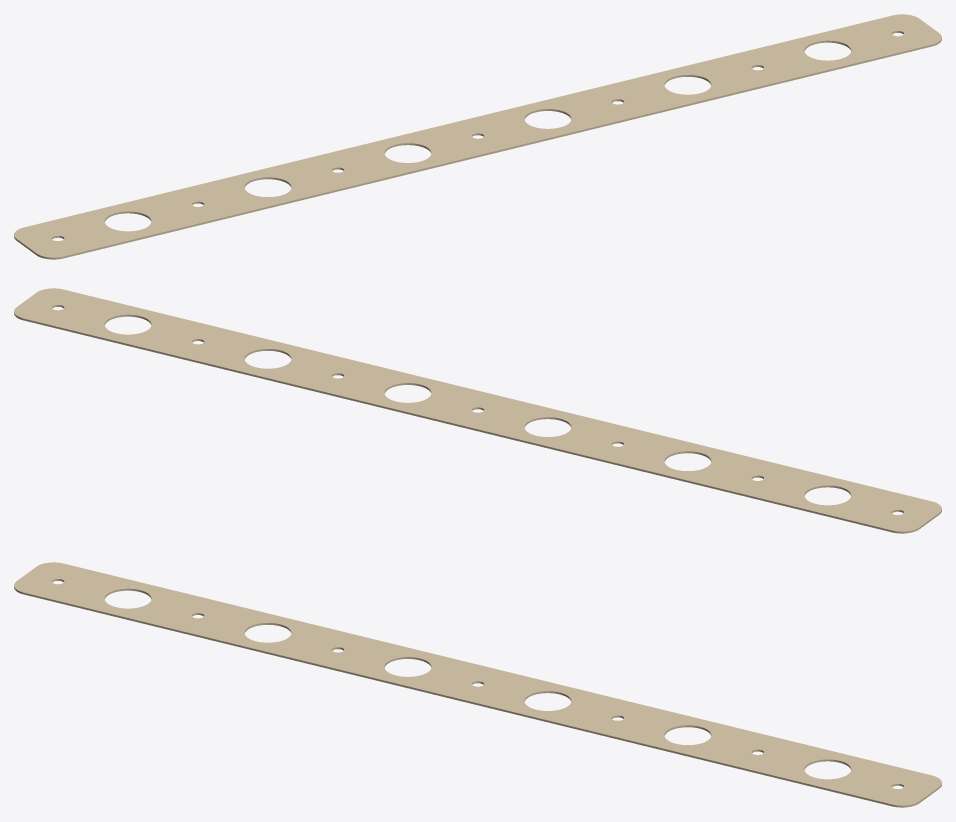
The model's file is efi-upper-intake-gasket.glb.
The picture shows the model from 3 angles, top to bottom: view 1: azimuth 30°, elevation 25°; view 2: azimuth 150°, elevation 25°; view 3: azimuth 330°, elevation 25°; orthographic projection.
Parts seen in each view (by area): view 1: world; view 2: world; view 3: world.
Boxes of the visible parts, x1=… form: world: x1=14, y1=14, x2=941, y2=259; world: x1=14, y1=288, x2=941, y2=533; world: x1=14, y1=562, x2=941, y2=807.
Size of the model in its own units: 0.734 by 0.0015 by 0.056.
